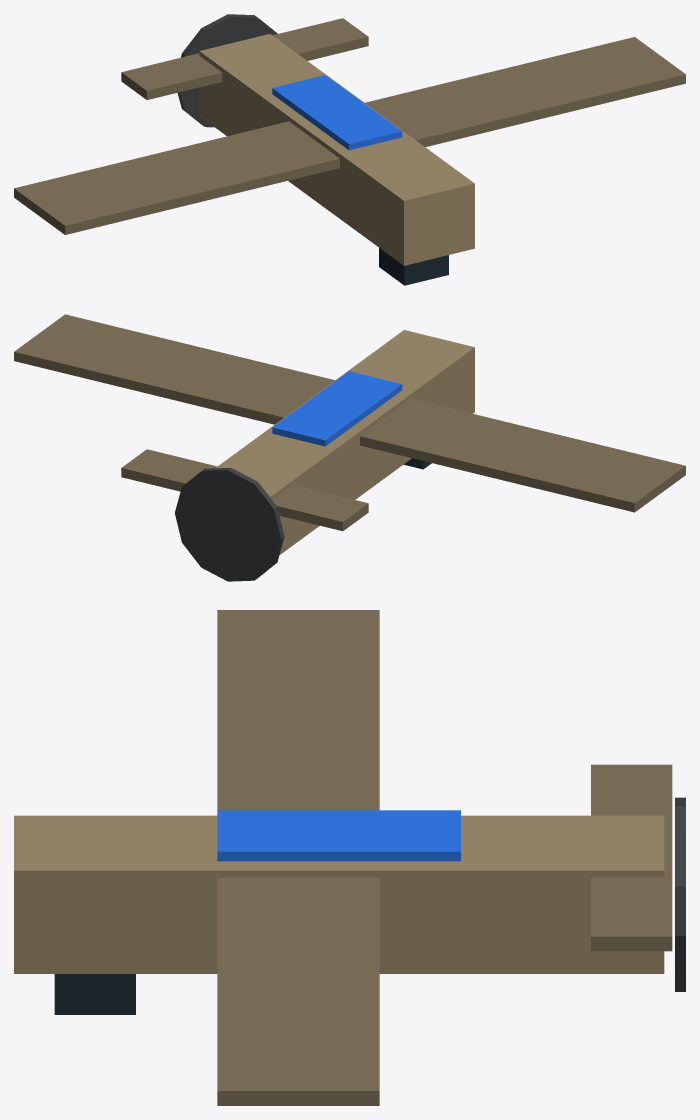
Rendered from ae_recon_drone.glb.
3 renders of one model, top to bottom at view 1: azimuth 30°, elevation 25°; view 2: azimuth 150°, elevation 25°; view 3: azimuth 270°, elevation 25°, orthographic. The views are drawn at different scales.
Parts seen in each view (by area): view 1: wing, body, tail, team_plate, prop, camera_pod; view 2: wing, body, prop, tail, team_plate; view 3: body, wing, team_plate, tail, camera_pod, prop.
Boxes of the visible parts, x1,y1,x2,y2 form: wing: [14, 37, 685, 234]; body: [199, 34, 474, 265]; tail: [121, 18, 368, 99]; team_plate: [272, 75, 402, 150]; prop: [177, 14, 277, 127]; camera_pod: [379, 248, 448, 285]; wing: [14, 314, 685, 512]; body: [215, 330, 474, 554]; prop: [175, 467, 284, 581]; tail: [121, 449, 368, 531]; team_plate: [272, 371, 402, 446]; body: [14, 815, 664, 973]; wing: [217, 610, 379, 1105]; team_plate: [217, 810, 460, 861]; tail: [591, 764, 672, 951]; camera_pod: [54, 974, 135, 1014]; prop: [675, 797, 685, 991].
Bounding box in the file's own units: 2.1 × 0.39 × 1.24.
